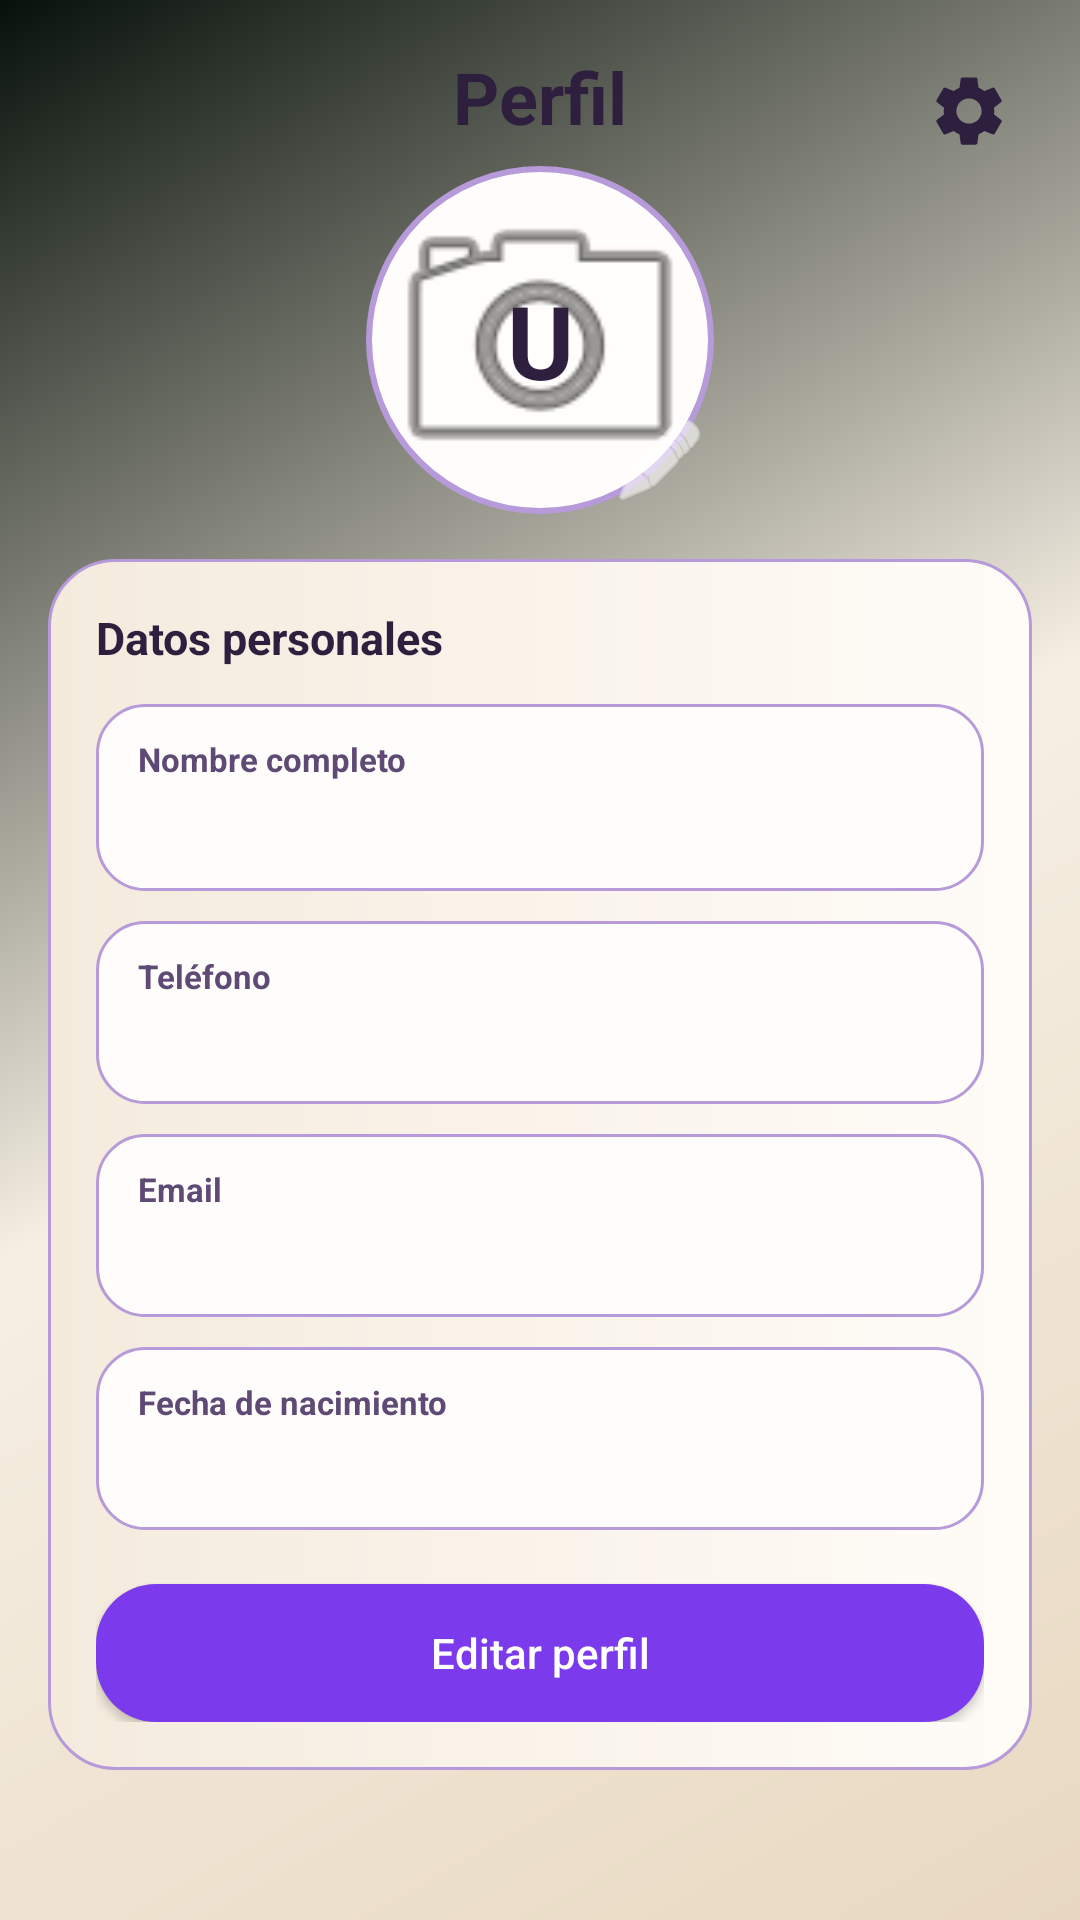

Screen size 1080 × 1920. Icon name, then its center in pixels as (x=x, y=y):
Abrir ajustes: (x=969, y=111)
